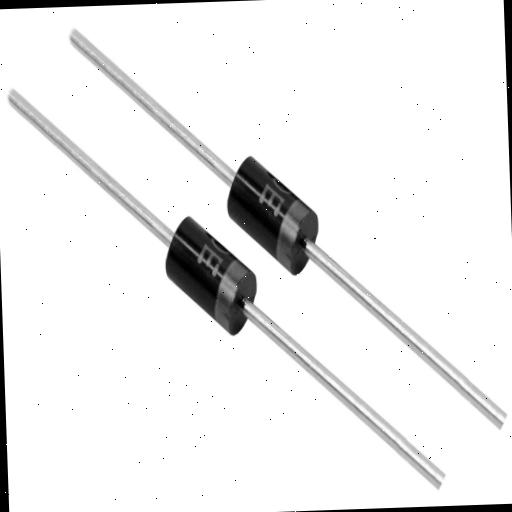DIODE: (4, 11, 509, 505), (218, 134, 350, 308), (145, 188, 261, 366)
